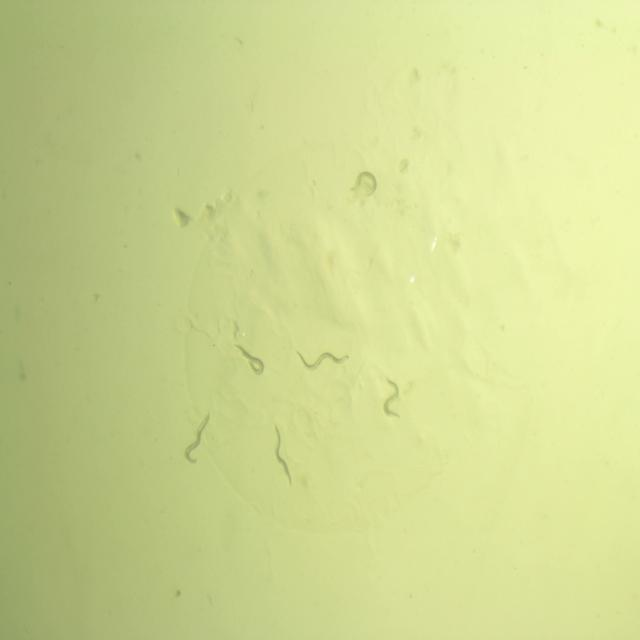worm: (181, 404, 212, 472), (268, 420, 296, 491), (292, 344, 352, 374), (234, 336, 267, 380), (348, 165, 381, 205), (380, 376, 406, 422)
